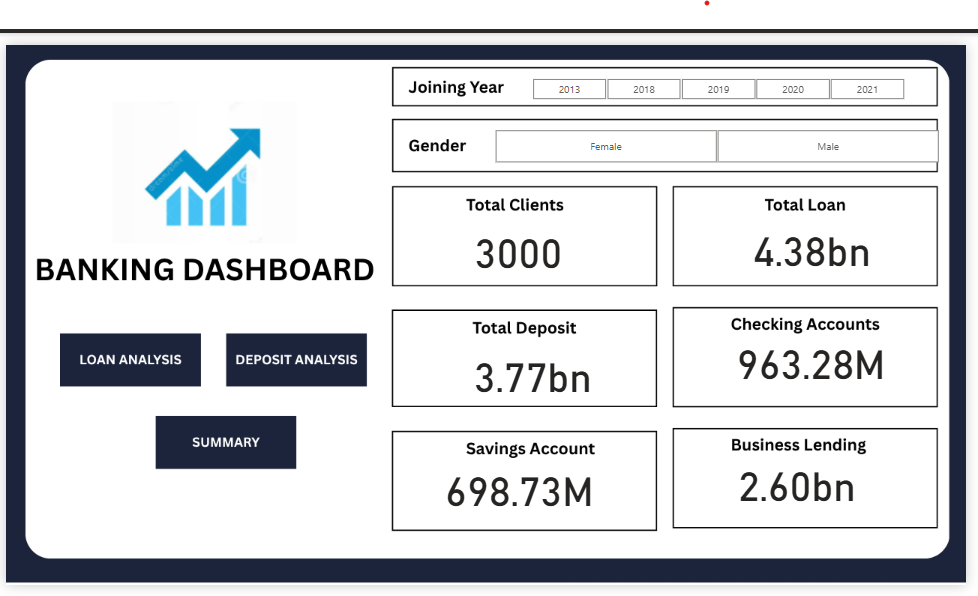

The page's visual inventory and layout, read from the dashboard file:
{"tool":"powerbi","page":{"name":"Home","canvas":[1280,720],"ordinal":0},"visuals":[{"type":"card","fields":{"Values":["banking_case customer.Name"]},"box":[607.4,228.2,153.4,85.9],"z":0},{"type":"slicer","fields":{"Values":["banking_case customer.GenderId"]},"box":[627.1,107,640.8,56.3],"z":1},{"type":"card","fields":{"Values":["banking_case customer.Total Loan"]},"box":[894.5,228.2,359.5,81],"z":2},{"type":"card","fields":{"Values":["banking_case customer.Total Deposit"]},"box":[476.1,397.5,451.5,76.1],"z":3},{"type":"card","fields":{"Values":["banking_case customer.Checking Accounts"]},"box":[914.1,366.9,320.2,106.7],"z":4},{"type":"card","fields":{"Values":["banking_case customer.Saving Accounts"]},"box":[526.4,552.2,315.3,74.8],"z":5},{"type":"card","fields":{"Values":["banking_case customer.Business Lending"]},"box":[927.6,538.7,252.8,88.3],"z":6},{"type":"slicer","fields":{"Values":["banking_case customer.Year of Joining"]},"box":[676.1,38,544.8,38],"z":7},{"type":"actionButton","box":[75,398.3,185,48.3],"z":9},{"type":"actionButton","box":[295,383.3,181.7,63.3],"z":10},{"type":"actionButton","box":[210,498.3,163.3,53.3],"z":11}]}

Visuals, with their boxes on the page's 1280x720 design canvas (x1, y1, x2, y2). These are canvas units, not pixel positions in the 978x596 screenshot, which may show the page scaled, cropped or inside an application window:
card - banking_case customer.Name: 607 228 761 314
slicer - banking_case customer.GenderId: 627 107 1268 163
card - banking_case customer.Total Loan: 894 228 1254 309
card - banking_case customer.Total Deposit: 476 398 928 474
card - banking_case customer.Checking Accounts: 914 367 1234 474
card - banking_case customer.Saving Accounts: 526 552 842 627
card - banking_case customer.Business Lending: 928 539 1180 627
slicer - banking_case customer.Year of Joining: 676 38 1221 76
actionButton: 75 398 260 447
actionButton: 295 383 477 447
actionButton: 210 498 373 552
